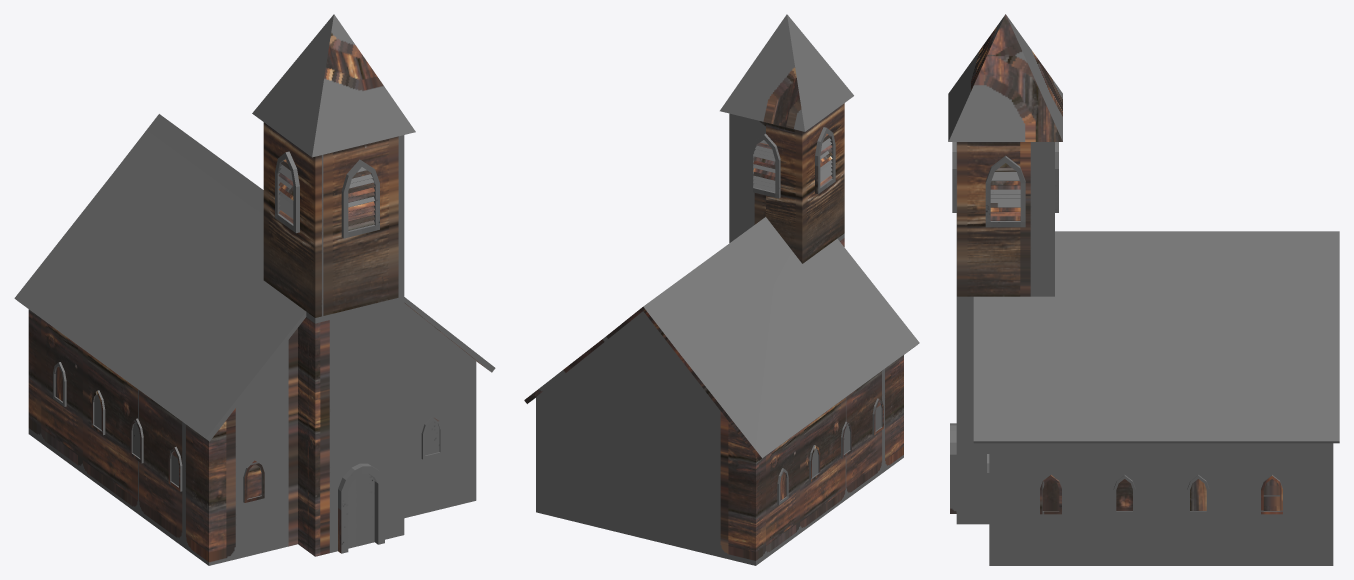
Rendered from Church.fbx.
3 views of the same model, side by side, from view 1: azimuth 30°, elevation 25°; view 2: azimuth 150°, elevation 25°; view 3: azimuth 270°, elevation 25° (orthographic). The views are drawn at different scales.
Visible parts, largest first — view 1: Church; view 2: Church; view 3: Church.
Part boxes in pixels (x1,y1,x2,y2): Church: [14, 14, 495, 565]; Church: [524, 14, 919, 565]; Church: [948, 14, 1339, 565].
Size of the model in its own units: 1950 by 3300 by 2389.
